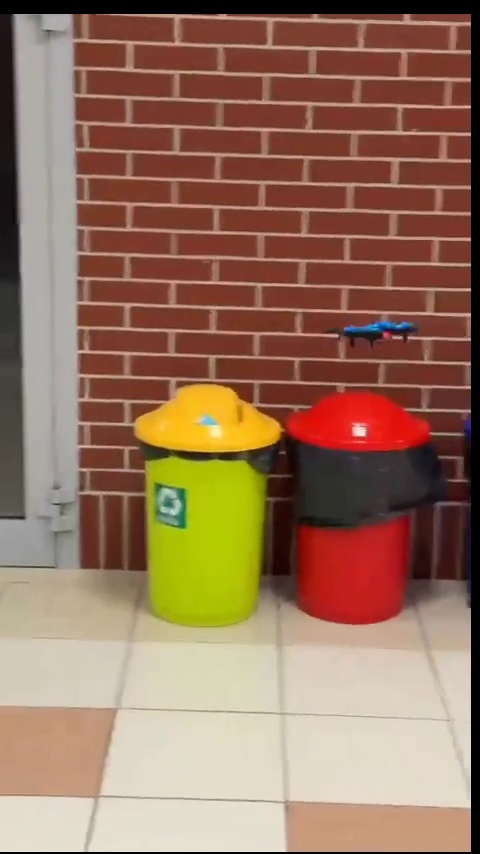drone: (339, 314, 420, 349)
